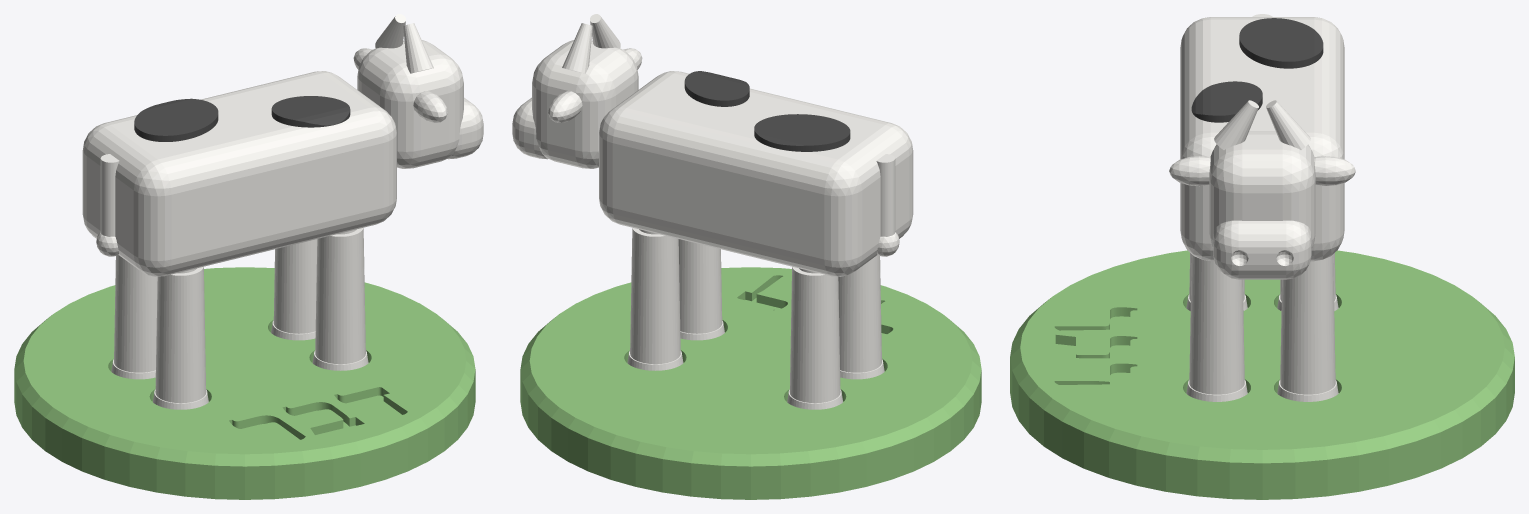
Rendered from pestilence.glb.
3 renders of one model, left to right at view 1: azimuth 30°, elevation 25°; view 2: azimuth 150°, elevation 25°; view 3: azimuth 270°, elevation 25°, orthographic. The views are drawn at different scales.
Visible parts, largest first — view 1: stage, body, head, leg-1, leg-3, body--spots, leg-2, leg-4; view 2: stage, body, head, leg-2, leg-4, body--spots, leg-1, leg-3; view 3: stage, head, body, leg-3, leg-4, body--spots.
Boxes of the visible parts, x1,y1,x2,y2 form: stage: [14, 267, 475, 499]; body: [82, 71, 396, 276]; head: [353, 14, 483, 168]; leg-1: [153, 266, 208, 409]; leg-3: [312, 227, 368, 370]; body--spots: [134, 96, 350, 141]; leg-2: [111, 255, 157, 379]; leg-4: [271, 239, 317, 340]; stage: [520, 267, 981, 499]; body: [599, 71, 913, 276]; head: [512, 14, 642, 168]; leg-2: [787, 266, 842, 409]; leg-4: [627, 227, 683, 370]; body--spots: [684, 71, 850, 151]; leg-1: [838, 255, 884, 379]; leg-3: [678, 239, 724, 340]; stage: [1010, 250, 1514, 499]; head: [1169, 100, 1355, 279]; body: [1180, 14, 1344, 261]; leg-3: [1186, 254, 1247, 401]; leg-4: [1277, 254, 1338, 401]; body--spots: [1191, 18, 1323, 122].
Size of the model in its own units: 42.5 by 32.99 by 40.
